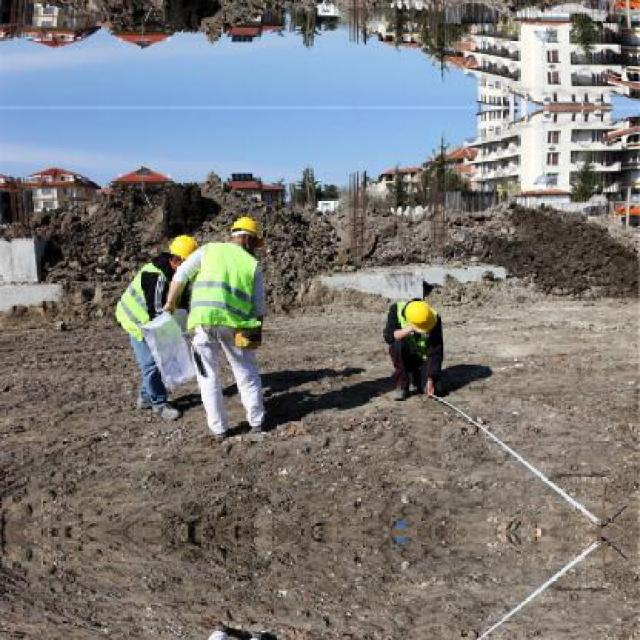Reflective-Jacket: (183, 244, 275, 354), (378, 295, 451, 371), (110, 260, 172, 343)
Safety-Helmet: (222, 208, 272, 249), (153, 228, 204, 268), (396, 296, 442, 336)
